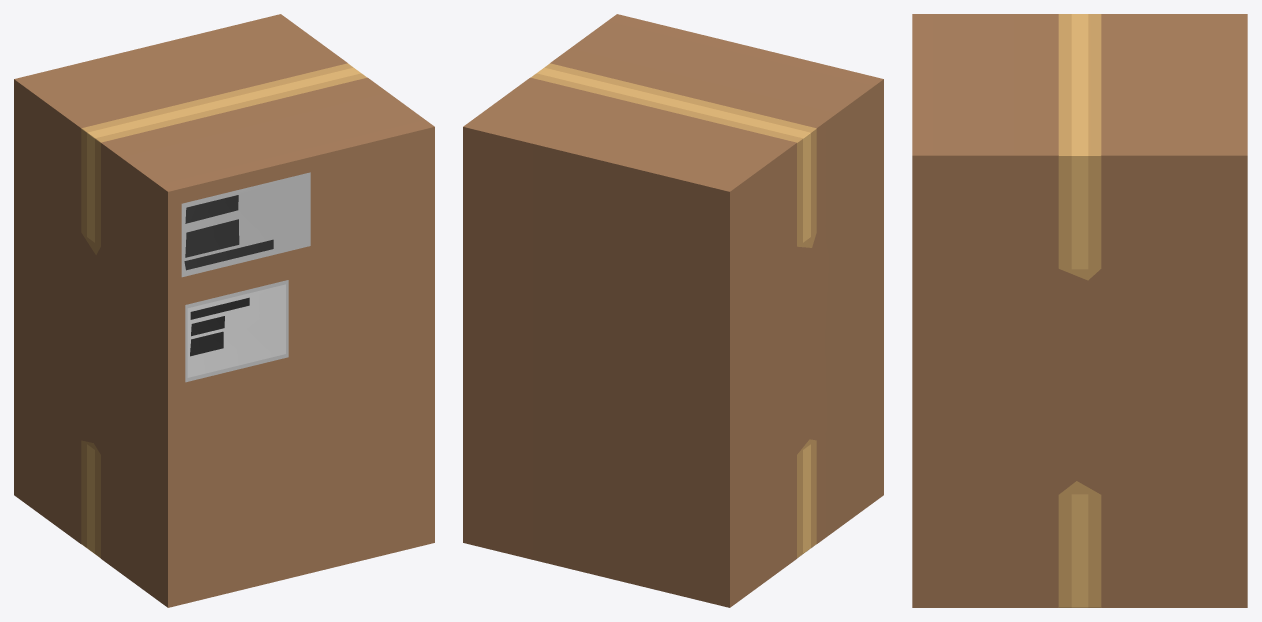
The model's file is Tan Packing Box #6.fbx.
3 views of the same model, side by side, from view 1: azimuth 30°, elevation 25°; view 2: azimuth 150°, elevation 25°; view 3: azimuth 270°, elevation 25° (orthographic). The views are drawn at different scales.
Visible parts, largest first — view 1: Large Tan Packing Box; view 2: Large Tan Packing Box; view 3: Large Tan Packing Box.
Boxes of the visible parts, box(x1,y1,x2,y2) form: Large Tan Packing Box: box(14, 14, 434, 607); Large Tan Packing Box: box(463, 14, 883, 607); Large Tan Packing Box: box(912, 14, 1247, 607).
Bounding box in the file's own units: 435 × 292 × 292.
Materials: 1 (1 with a texture image).
